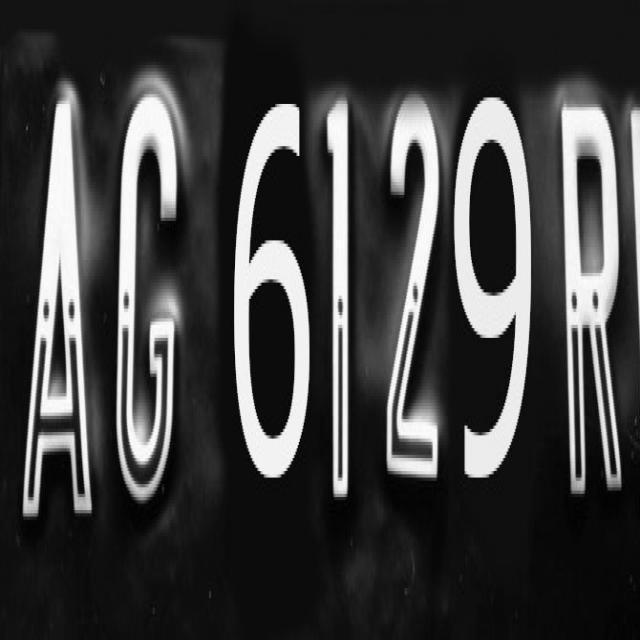1: (318, 90, 372, 508)
2: (386, 88, 440, 497)
6: (230, 107, 316, 483)
9: (446, 93, 528, 487)
A: (15, 72, 100, 520)
G: (104, 71, 200, 512)
R: (556, 103, 622, 507)
